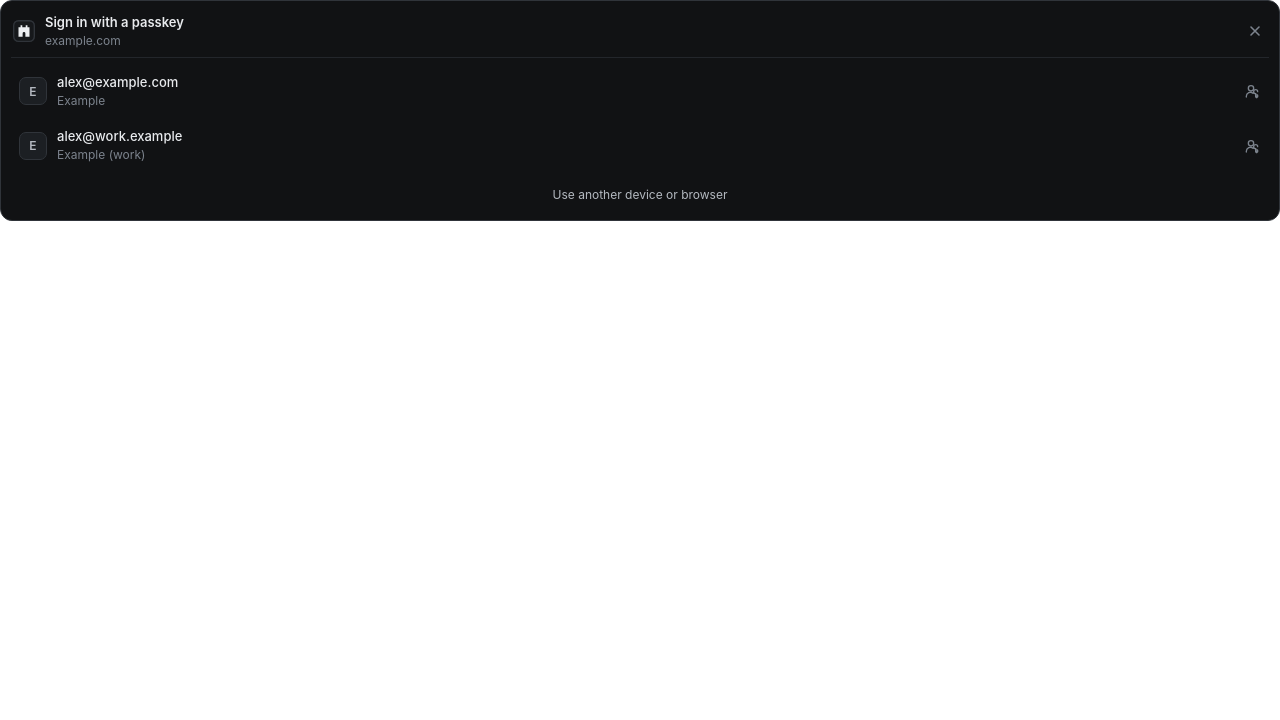
it: passkey prompt page › shows desktop errors and reloads the state
The image size is (1280, 720).
Click the button with test id "passkey-choice" showing "E alex@example.com Example" at (118, 82), box x1=11 y1=66 x2=1269 y2=116
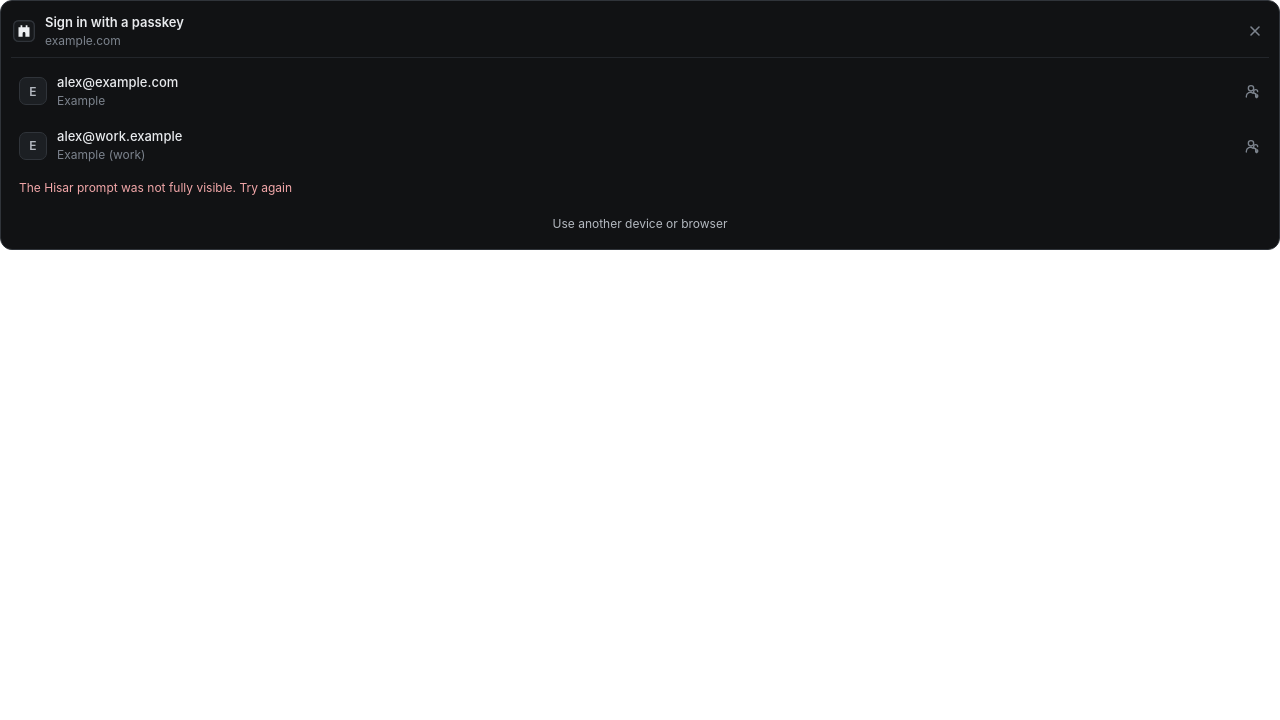
Result: the text with test id "passkey-error" reads "The Hisar prompt was not fully visible. Try again" at x1=19 y1=180 x2=292 y2=195
